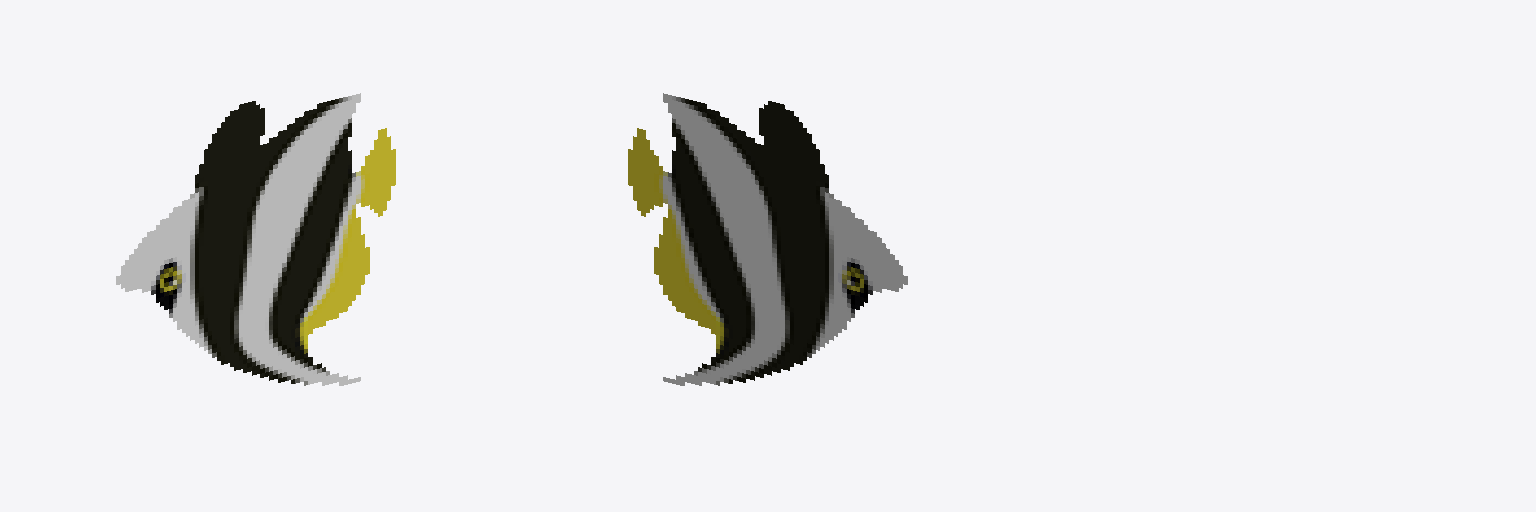
3 renders of one model, left to right at view 1: azimuth 30°, elevation 25°; view 2: azimuth 150°, elevation 25°; view 3: azimuth 270°, elevation 25°, orthographic.
Visible parts, largest first — view 1: seafish3; view 2: seafish3; view 3: none.
Boxes of the visible parts, box(x1,y1,x2,y2) form: seafish3: box(116, 93, 395, 385); seafish3: box(628, 93, 907, 385).
Bounding box in the file's own units: 4 × 4.25 × 0.
Materials: 1 (1 with a texture image).